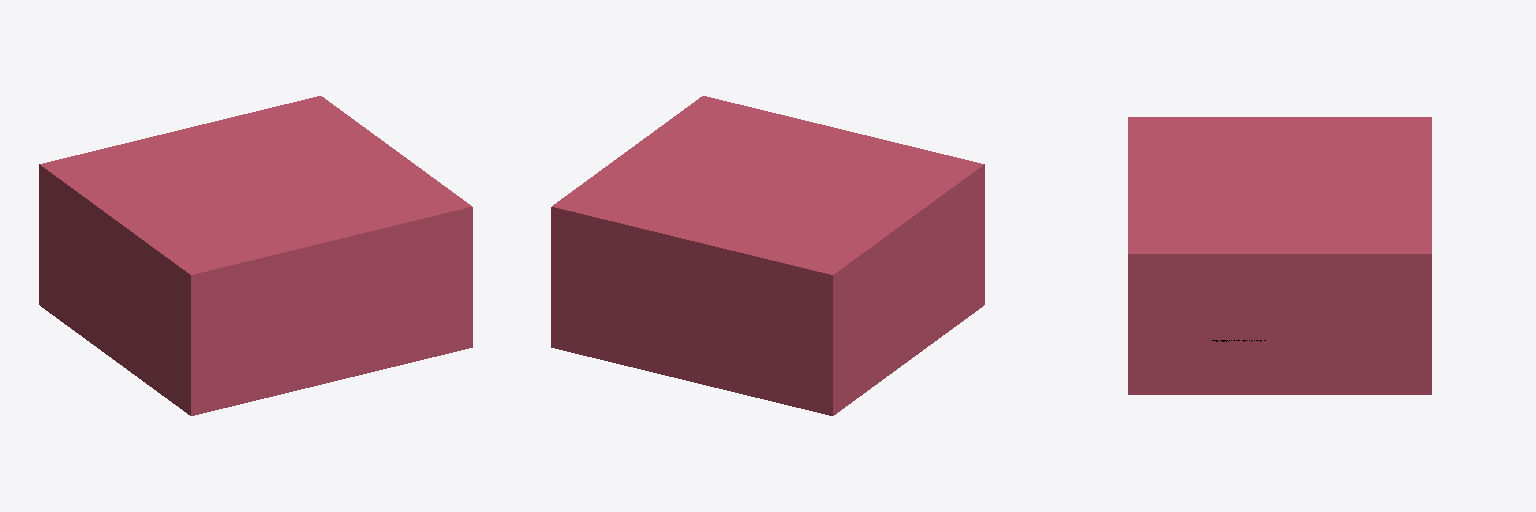
Rendered from Raum.obj.
3 views of the same model, side by side, from view 1: azimuth 30°, elevation 25°; view 2: azimuth 150°, elevation 25°; view 3: azimuth 270°, elevation 25° (orthographic).
Visible parts, largest first — view 1: Raum_1; view 2: Raum_1; view 3: Raum_1.
Boxes of the visible parts, x1=… form: Raum_1: x1=39, y1=96, x2=472, y2=415; Raum_1: x1=551, y1=96, x2=984, y2=415; Raum_1: x1=1128, y1=117, x2=1431, y2=394.
Size of the model in its own units: 8.35 by 4 by 7.79.